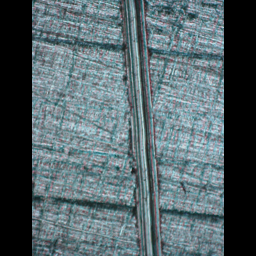d: (113, 0, 164, 254)
